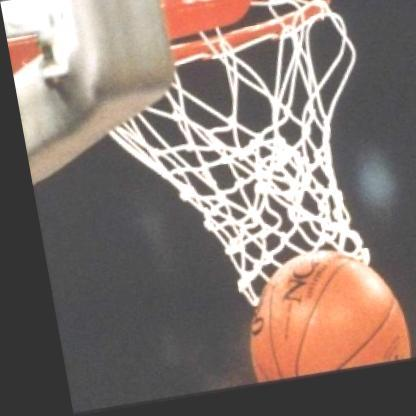basketball: (214, 244, 408, 394)
rim: (112, 0, 372, 329)
